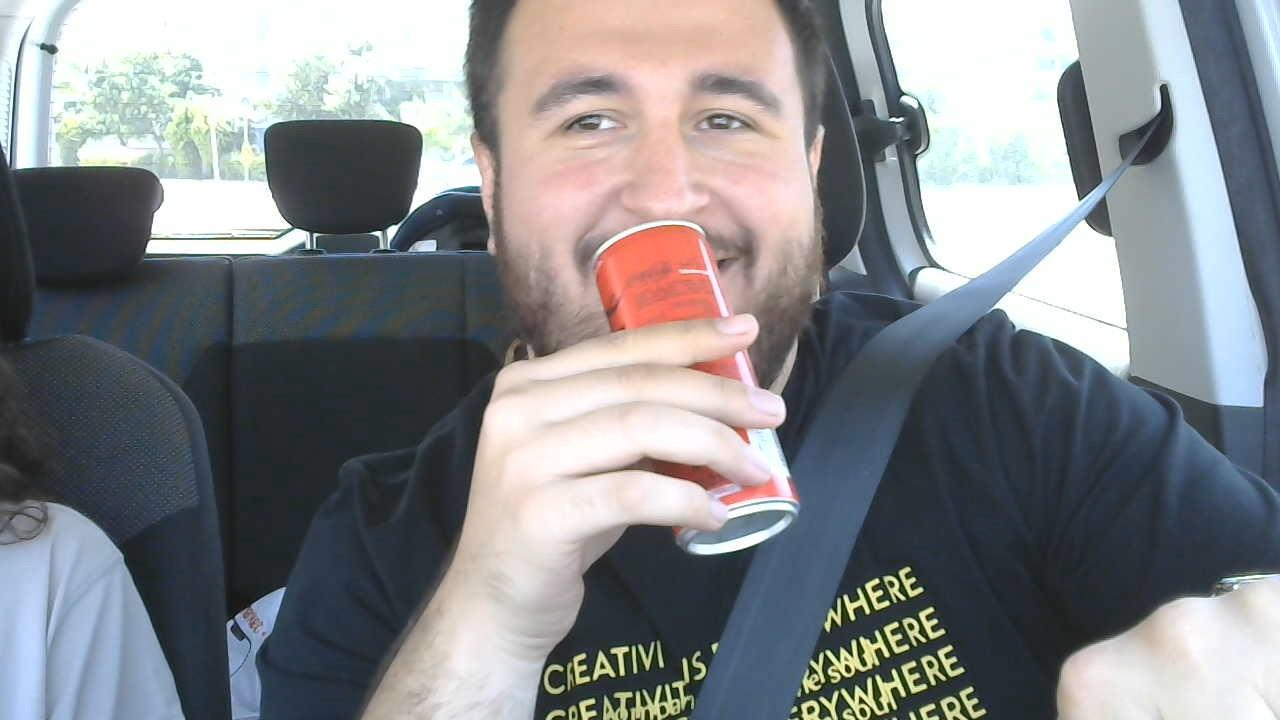Drinking: (468, 2, 826, 554)
